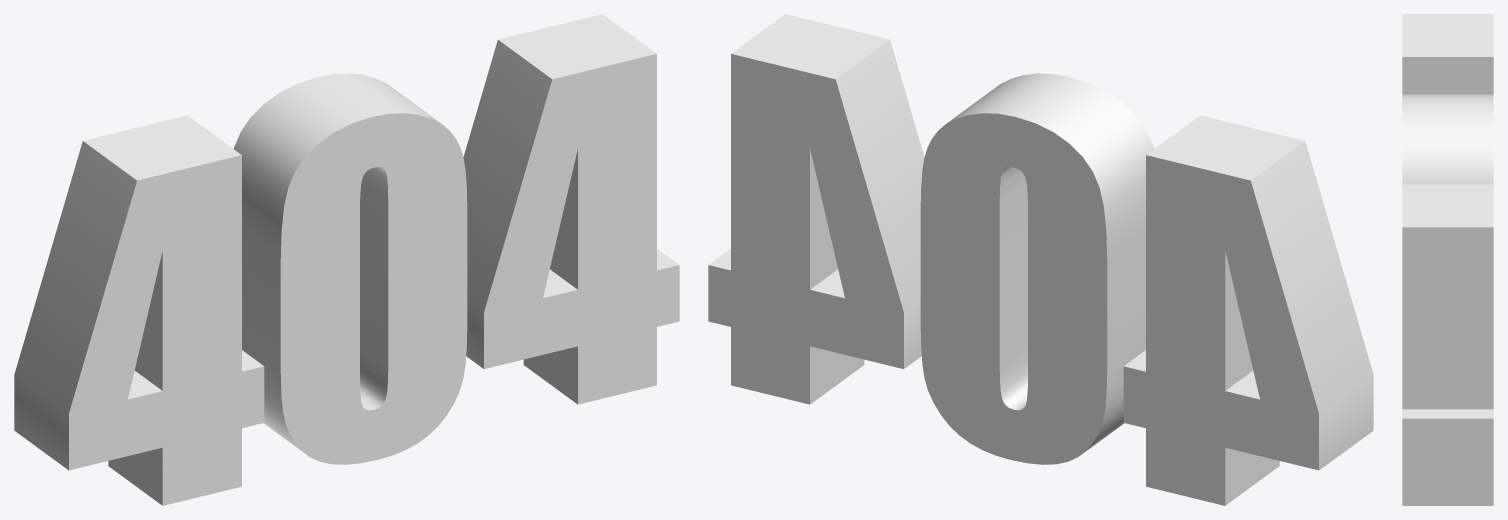
3 views of the same model, side by side, from view 1: azimuth 30°, elevation 25°; view 2: azimuth 150°, elevation 25°; view 3: azimuth 270°, elevation 25° (orthographic). The views are drawn at different scales.
Parts seen in each view (by area): view 1: mesh_id43; view 2: mesh_id43; view 3: mesh_id43.
Part boxes in pixels (x1=…): mesh_id43: x1=14, y1=14, x2=679, y2=505; mesh_id43: x1=708, y1=14, x2=1373, y2=505; mesh_id43: x1=1402, y1=14, x2=1493, y2=505.
Bounding box in the file's own units: 0.638 × 0.3437 × 0.0984.
Materials: 1 (1 with a texture image).
